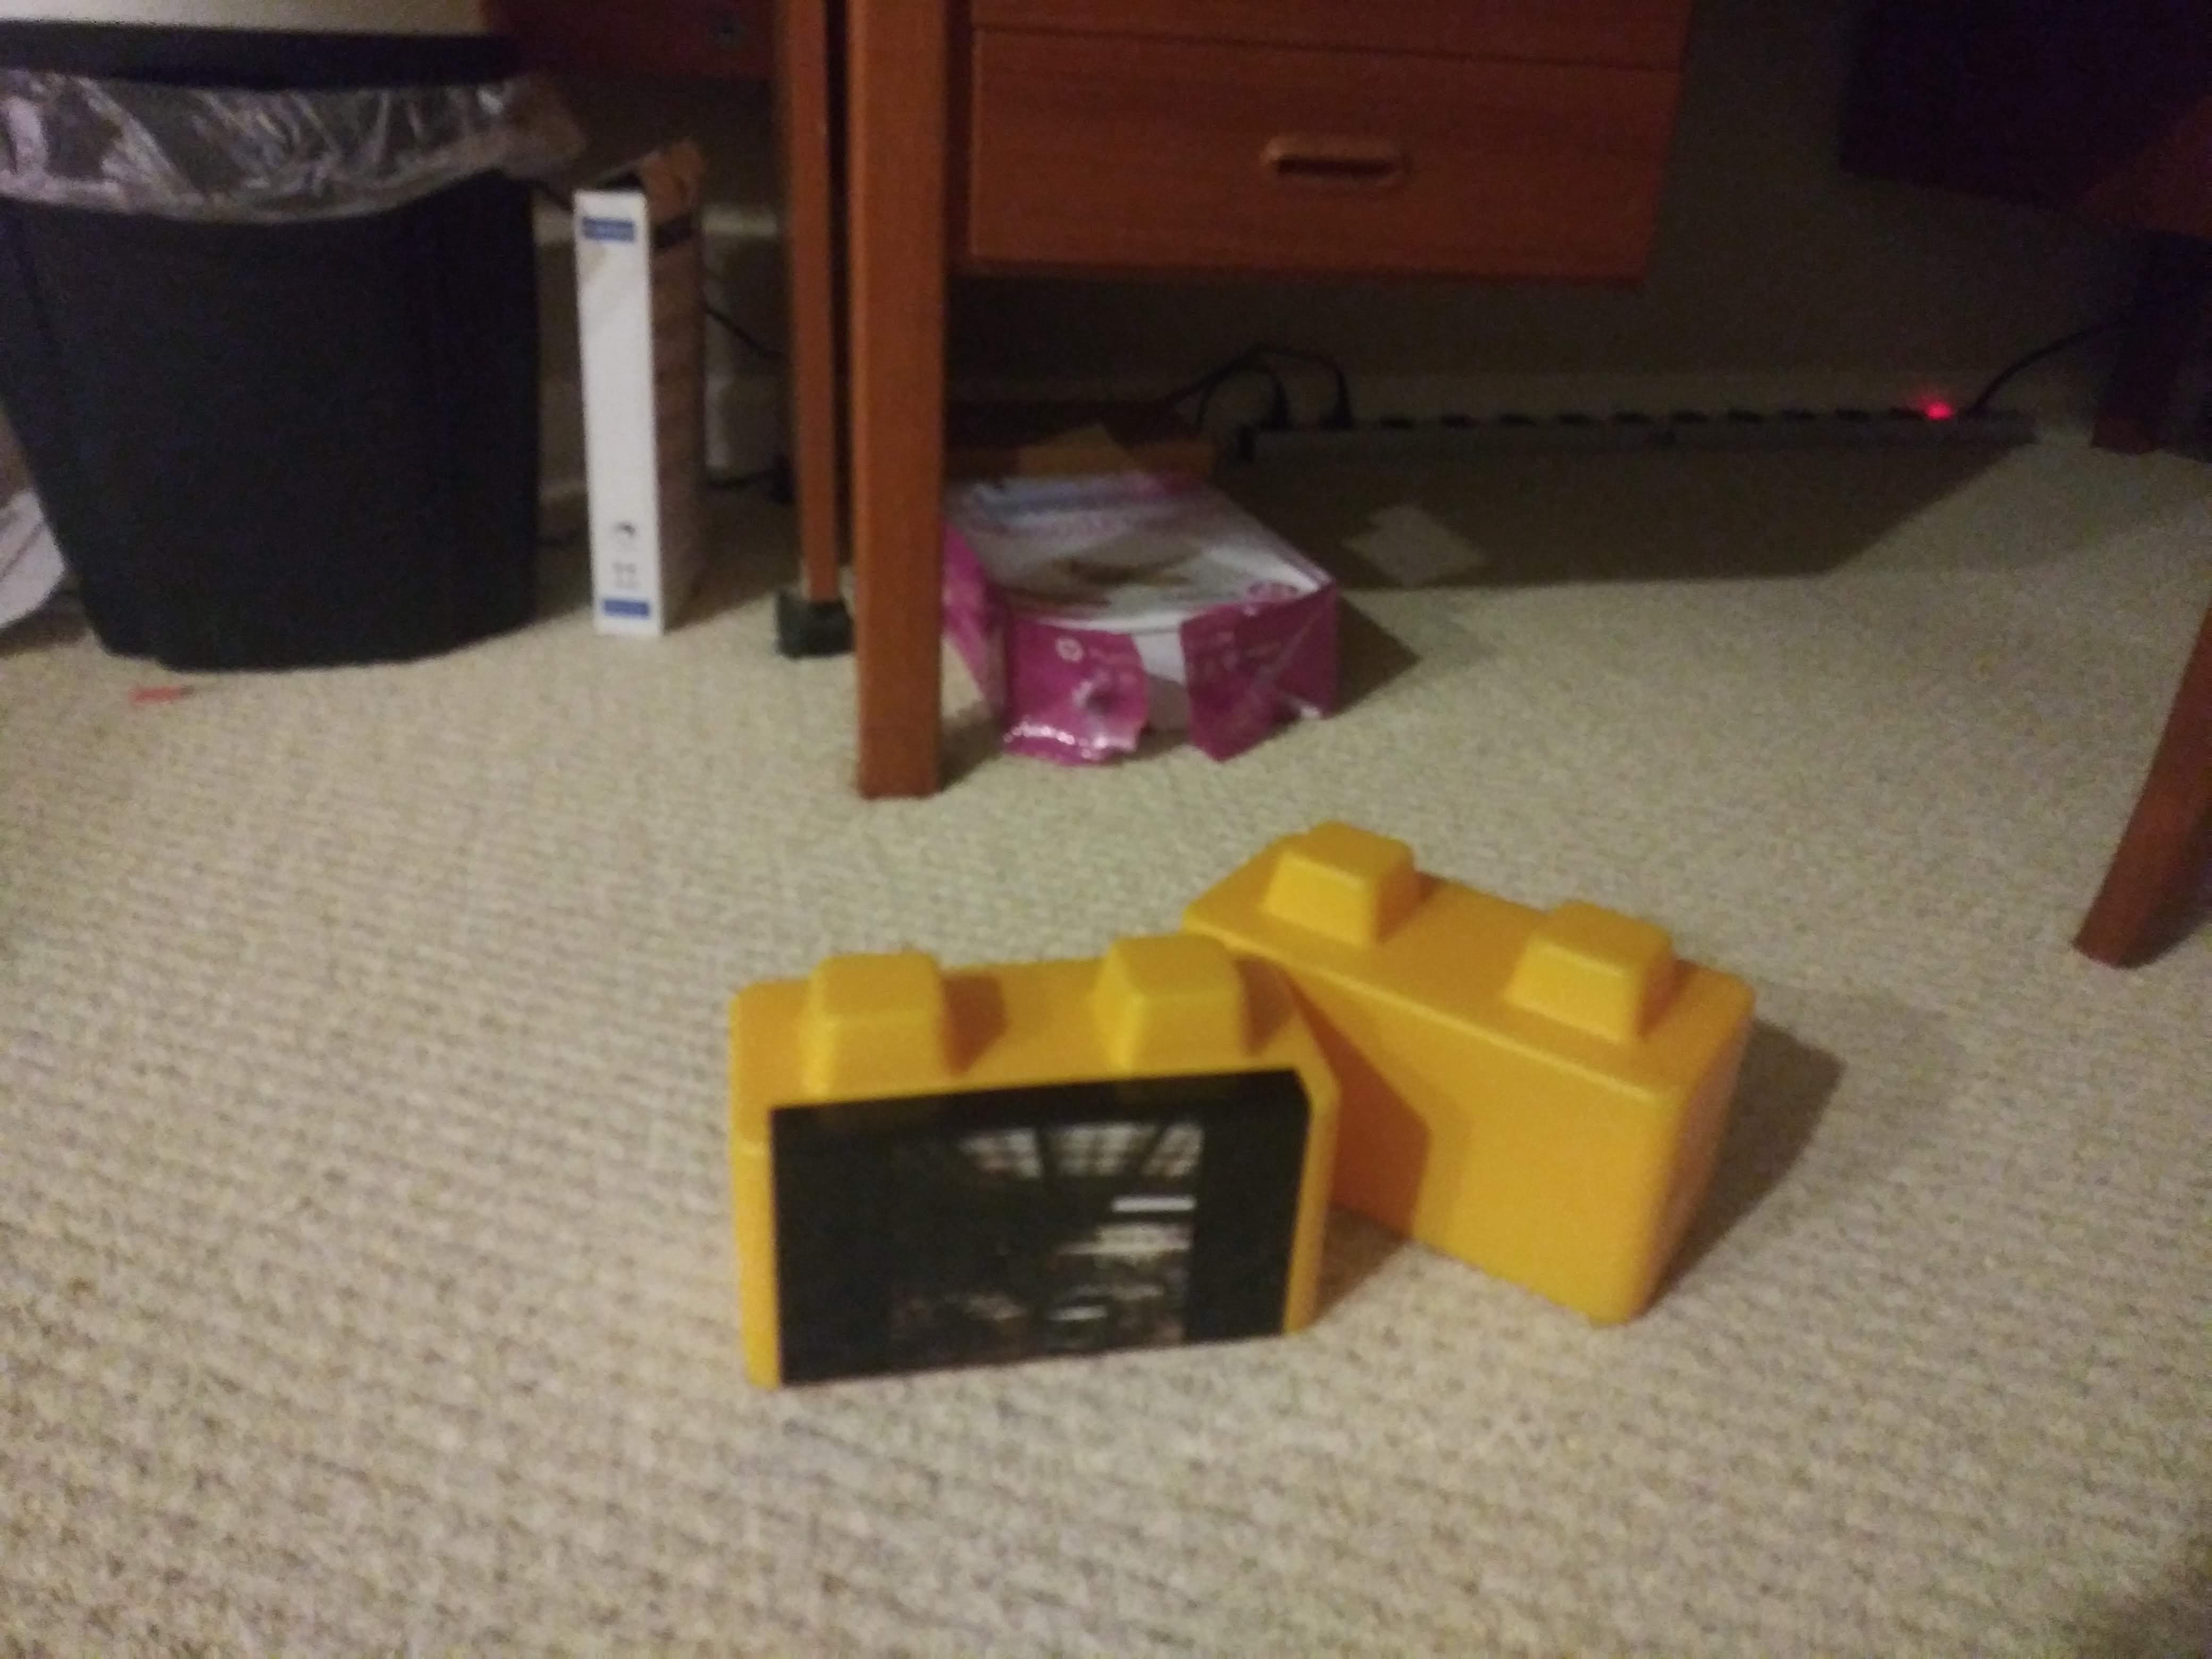skystone: (744, 1023, 1299, 1368)
stone: (1345, 896, 1709, 1291)
